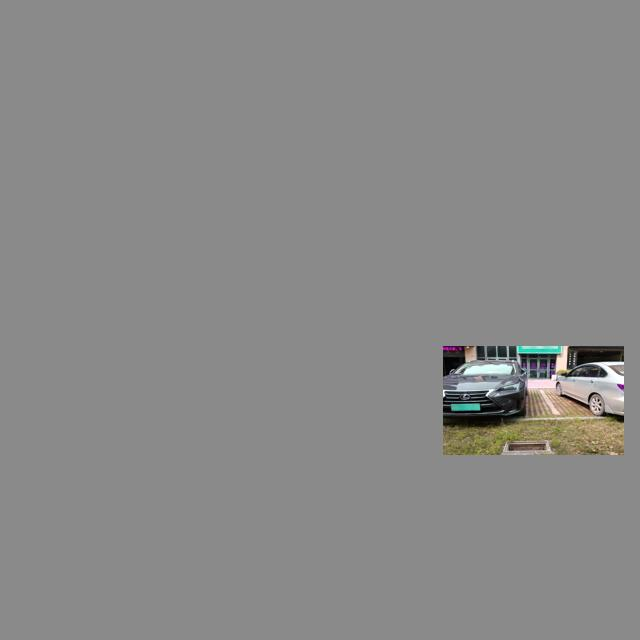lose: (503, 438, 551, 453)
